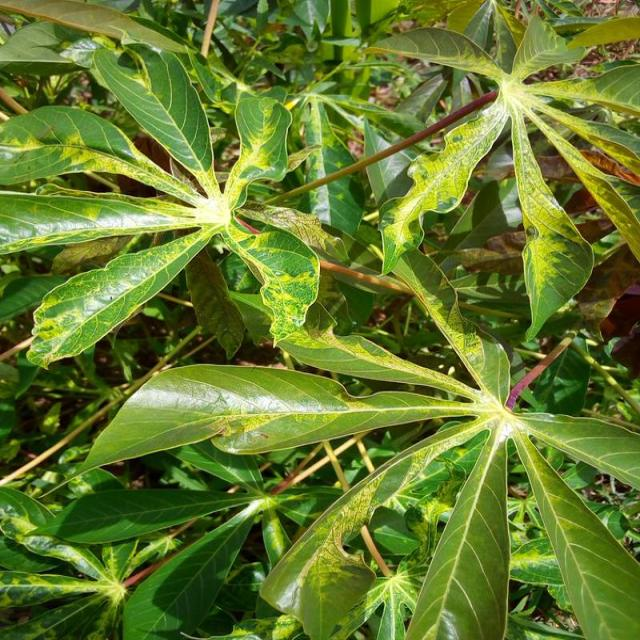Mosaico: (145, 256, 635, 628), (9, 82, 318, 321), (387, 36, 640, 294), (12, 441, 195, 640)
